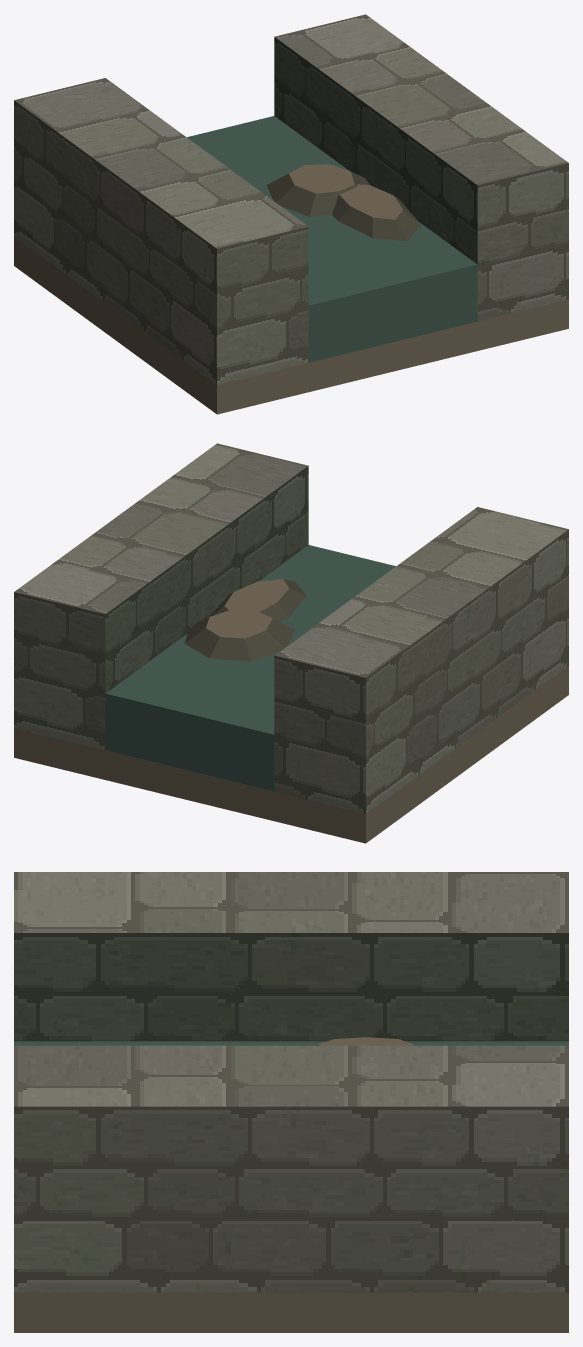
Rendered from silted_race.glb.
The picture shows the model from 3 angles, top to bottom: view 1: azimuth 30°, elevation 25°; view 2: azimuth 150°, elevation 25°; view 3: azimuth 270°, elevation 25°; orthographic projection. The views are drawn at different scales.
Visible parts, largest first — view 1: Silted race; view 2: Silted race; view 3: Silted race.
Part boxes in pixels (x1,y1,x2,y2): Silted race: (14,14,568,414); Silted race: (14,443,568,843); Silted race: (14,872,568,1332).
Bounding box in the file's own units: 2 × 0.9 × 2.
6 materials, 3 textured.
